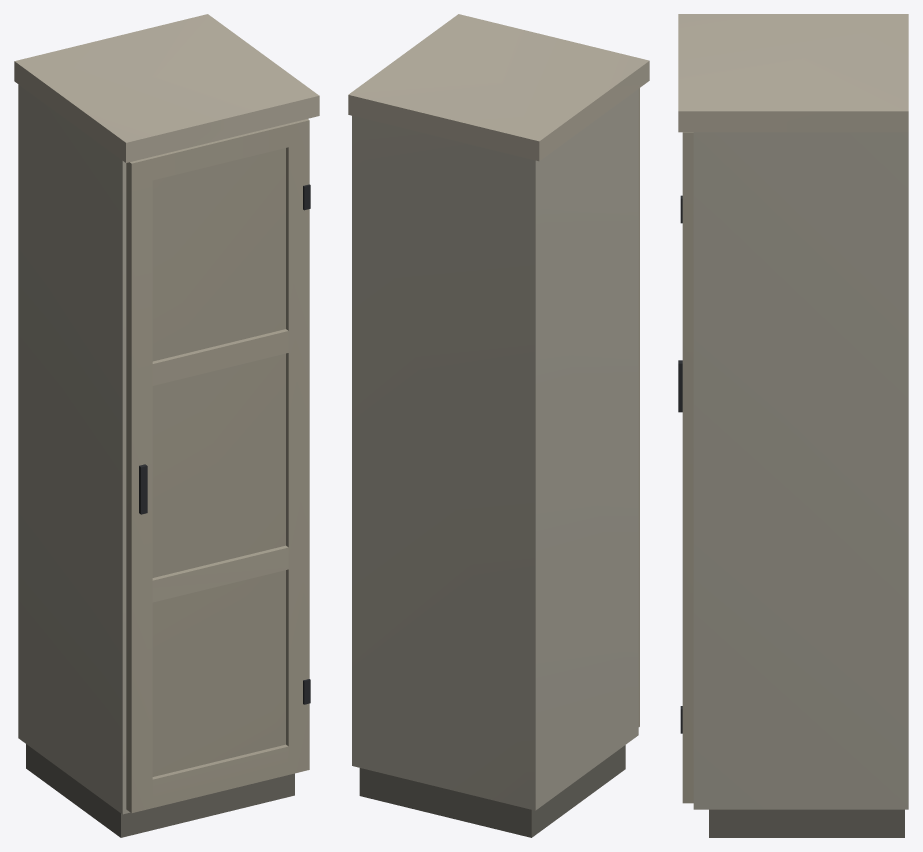
File: cabinet.closet.painted.glb
3 views of the same model, side by side, from view 1: azimuth 30°, elevation 25°; view 2: azimuth 150°, elevation 25°; view 3: azimuth 270°, elevation 25° (orthographic). The views are drawn at different scales.
Parts seen in each view (by area): view 1: cabinet_closet_painted; view 2: cabinet_closet_painted; view 3: cabinet_closet_painted.
Boxes of the visible parts, left/top/right/bottom form: cabinet_closet_painted: left=14, top=14, right=319, bottom=837; cabinet_closet_painted: left=348, top=14, right=649, bottom=837; cabinet_closet_painted: left=678, top=14, right=908, bottom=837.
Size of what is drawn, in the model's own units: 0.6 by 2.1 by 0.6.
